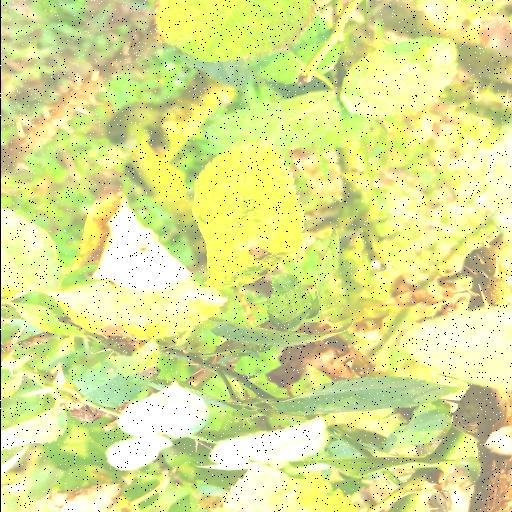healthy_leaf: (154, 0, 315, 61), (340, 38, 456, 118), (206, 92, 340, 151)
red_mite: (192, 142, 303, 288)
thrip: (77, 194, 192, 290)
